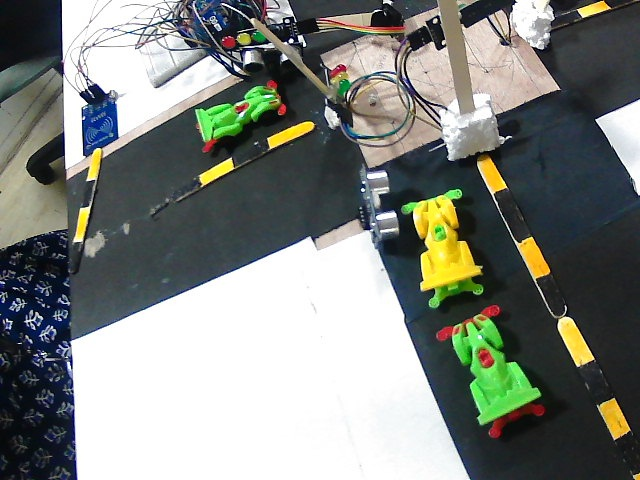black_strip: (495, 183, 532, 240), (576, 359, 611, 407), (233, 138, 276, 174), (154, 177, 198, 210), (608, 429, 640, 474), (537, 270, 566, 315), (546, 8, 578, 30), (608, 0, 640, 9)
car: (441, 303, 542, 429), (406, 191, 481, 303), (196, 81, 288, 140)
mixed_lane: (478, 151, 639, 472), (197, 119, 317, 184), (548, 0, 634, 30)
traffic_light: (447, 0, 514, 26), (322, 62, 348, 102), (216, 29, 270, 48)
uno_breadboard: (135, 19, 212, 85), (173, 0, 246, 56), (77, 85, 127, 156), (357, 166, 397, 240), (237, 39, 304, 72)
yellow_strip: (552, 314, 592, 365), (472, 155, 504, 201), (598, 396, 631, 438), (517, 234, 544, 279), (266, 126, 313, 147), (196, 161, 234, 186), (572, 0, 610, 20)
